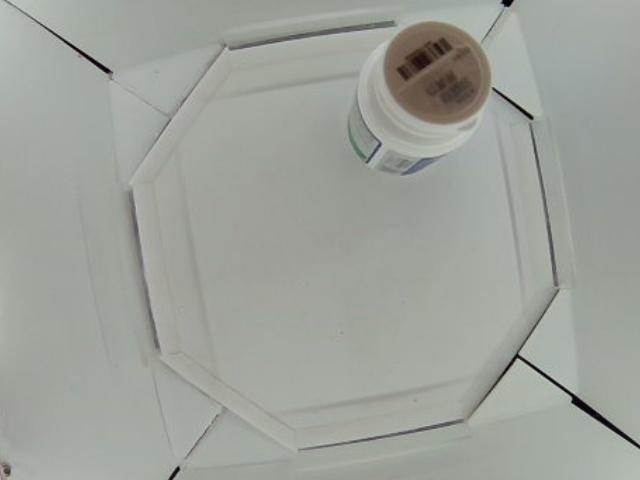Bottle: (345, 19, 492, 176)
